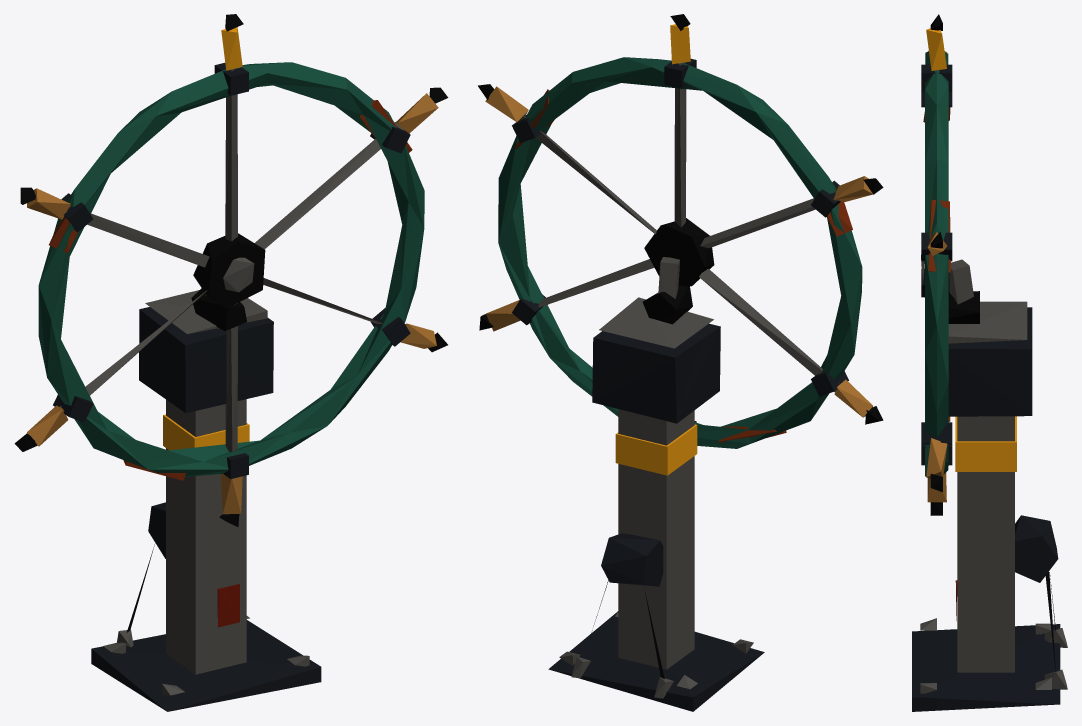
Rendered from upgrade_ship_s_wheel_ash_rudder.three-web-toon.lod50.glb.
3 renders of one model, left to right at view 1: azimuth 30°, elevation 25°; view 2: azimuth 150°, elevation 25°; view 3: azimuth 270°, elevation 25°, orthographic. The views are drawn at different scales.
Parts seen in each view (by area): view 1: upgrade_ship_s_wheel_ash_rudder_mesh_lod; view 2: upgrade_ship_s_wheel_ash_rudder_mesh_lod; view 3: upgrade_ship_s_wheel_ash_rudder_mesh_lod.
Part boxes in pixels (<box>): upgrade_ship_s_wheel_ash_rudder_mesh_lod: <box>14,14,448,711</box>; upgrade_ship_s_wheel_ash_rudder_mesh_lod: <box>478,14,883,711</box>; upgrade_ship_s_wheel_ash_rudder_mesh_lod: <box>912,14,1067,711</box>.
Size of the model in its own units: 1.17 by 1.77 by 0.3781.
